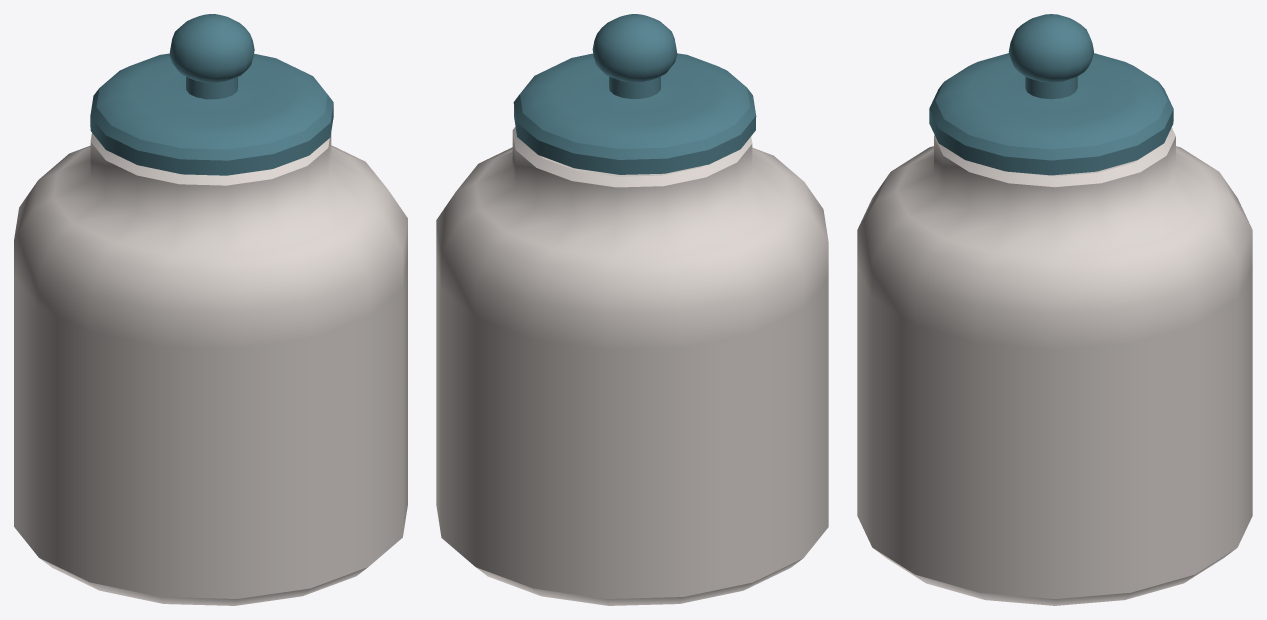
Rendered from container.fbx.
The picture shows the model from 3 angles, left to right: view 1: azimuth 30°, elevation 25°; view 2: azimuth 150°, elevation 25°; view 3: azimuth 270°, elevation 25°; orthographic projection.
Parts seen in each view (by area): view 1: pCylinder10, pCylinder11; view 2: pCylinder10, pCylinder11; view 3: pCylinder10, pCylinder11.
Boxes of the visible parts, x1,y1,x2,y2 form: pCylinder10: (14, 133, 407, 605); pCylinder11: (90, 14, 333, 175); pCylinder10: (436, 127, 828, 605); pCylinder11: (513, 14, 756, 174); pCylinder10: (857, 127, 1252, 605); pCylinder11: (929, 14, 1173, 175).
Bounding box in the file's own units: 48.63 × 69.18 × 48.63.
